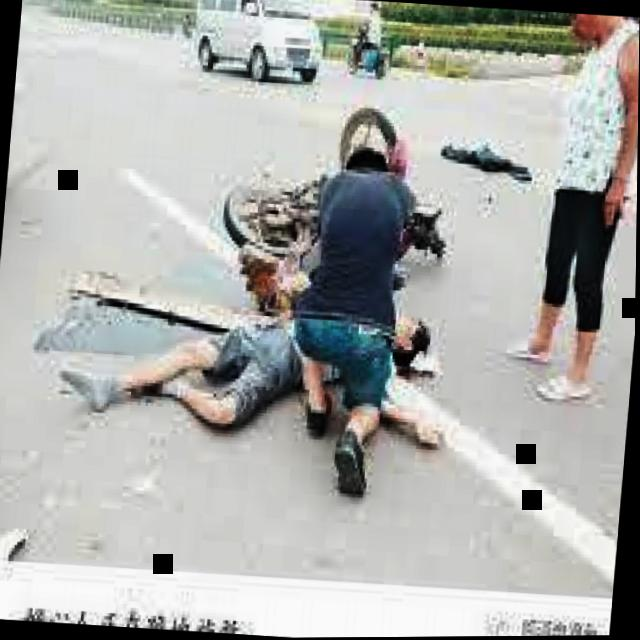Fall-Detected: (44, 263, 456, 450)
